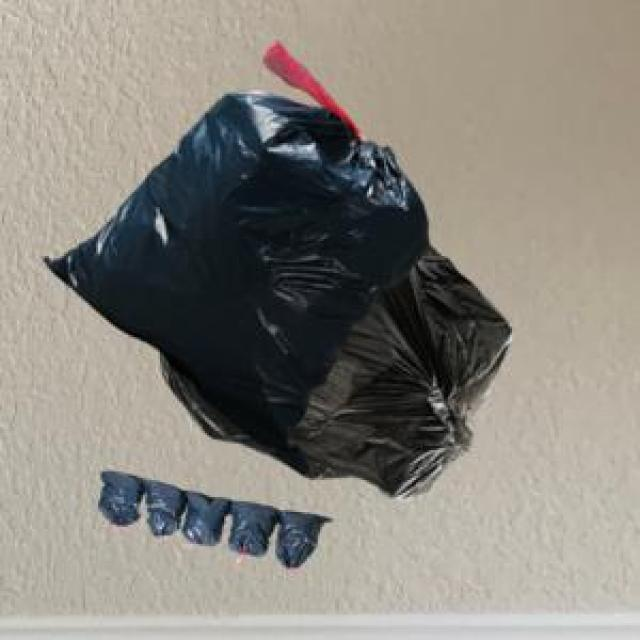Vinyl: (45, 46, 511, 496), (100, 473, 324, 566)
